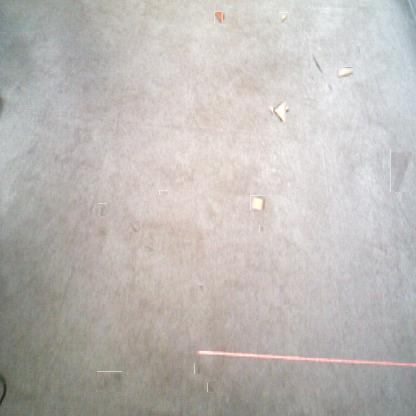dirty: (270, 103, 288, 121), (250, 195, 265, 210), (337, 67, 353, 77), (213, 12, 224, 23), (278, 12, 288, 23)
mark: (390, 148, 413, 192), (96, 371, 122, 392), (310, 54, 324, 76), (208, 382, 218, 393), (97, 205, 108, 215), (145, 244, 155, 254), (129, 221, 139, 231), (194, 362, 201, 374), (326, 82, 333, 92), (98, 228, 106, 236), (197, 284, 203, 293), (160, 189, 167, 196), (356, 45, 360, 56), (259, 224, 264, 232), (52, 247, 58, 253)
